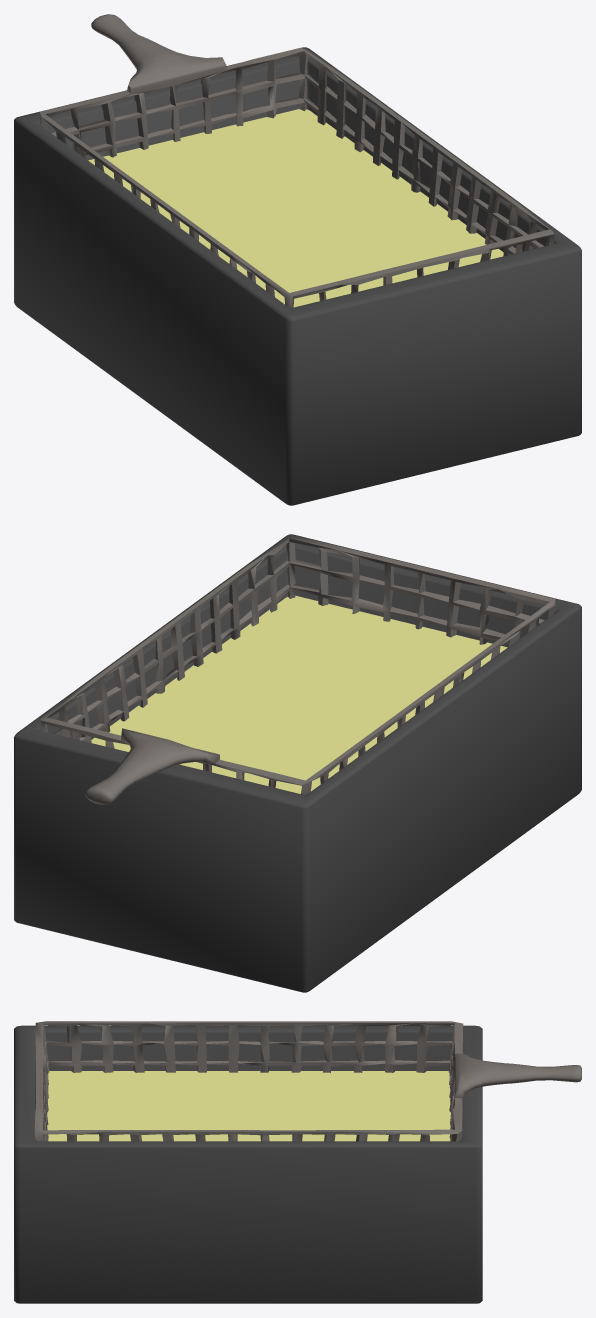
The model's file is Deep_frier.fbx.
3 views of the same model, one above another, from view 1: azimuth 30°, elevation 25°; view 2: azimuth 150°, elevation 25°; view 3: azimuth 270°, elevation 25° (orthographic). The views are drawn at different scales.
Visible parts, largest first — view 1: Deep_frier, deep_frier_in; view 2: Deep_frier, deep_frier_in; view 3: Deep_frier, deep_frier_in.
Boxes of the visible parts, box(x1,y1,x2,y2) form: Deep_frier: box(14, 47, 581, 505); deep_frier_in: box(39, 14, 554, 307); Deep_frier: box(14, 534, 581, 992); deep_frier_in: box(40, 535, 555, 804); Deep_frier: box(14, 1025, 482, 1303); deep_frier_in: box(34, 1021, 581, 1141).
Size of the model in its own units: 294 by 203 by 581.
